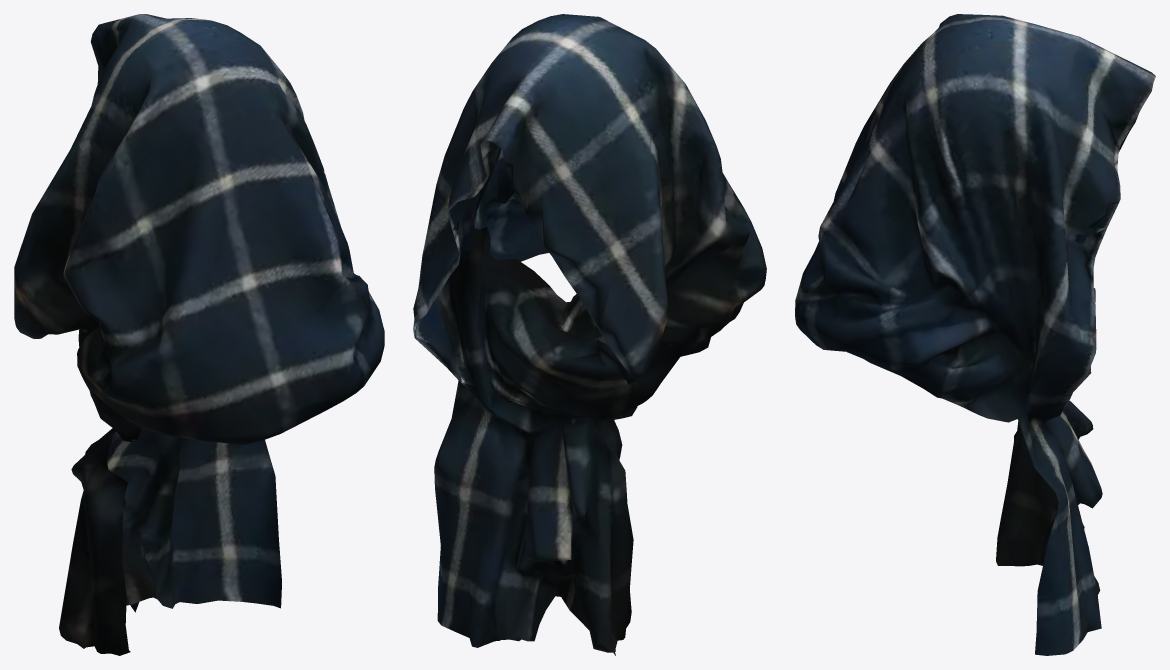
File: wear-scarfhood.glb
3 renders of one model, left to right at view 1: azimuth 30°, elevation 25°; view 2: azimuth 150°, elevation 25°; view 3: azimuth 270°, elevation 25°, orthographic. The views are drawn at different scales.
Parts seen in each view (by area): view 1: scan-0; view 2: scan-0; view 3: scan-0.
Part boxes in pixels (left/top/right/bottom): scan-0: left=14, top=14, right=384, bottom=655; scan-0: left=413, top=14, right=766, bottom=655; scan-0: left=795, top=14, right=1155, bottom=655.
Size of the model in its own units: 13.14 by 27.15 by 15.17.
Materials: 1 (1 with a texture image).
